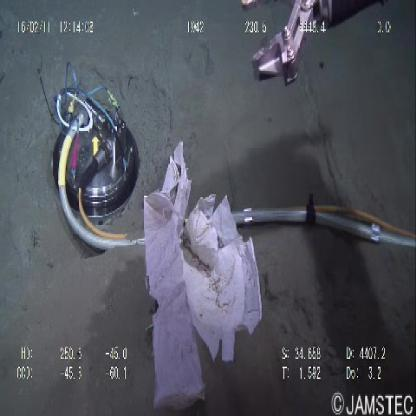Rov: (32, 60, 140, 254)
Rác: (140, 137, 270, 415)
